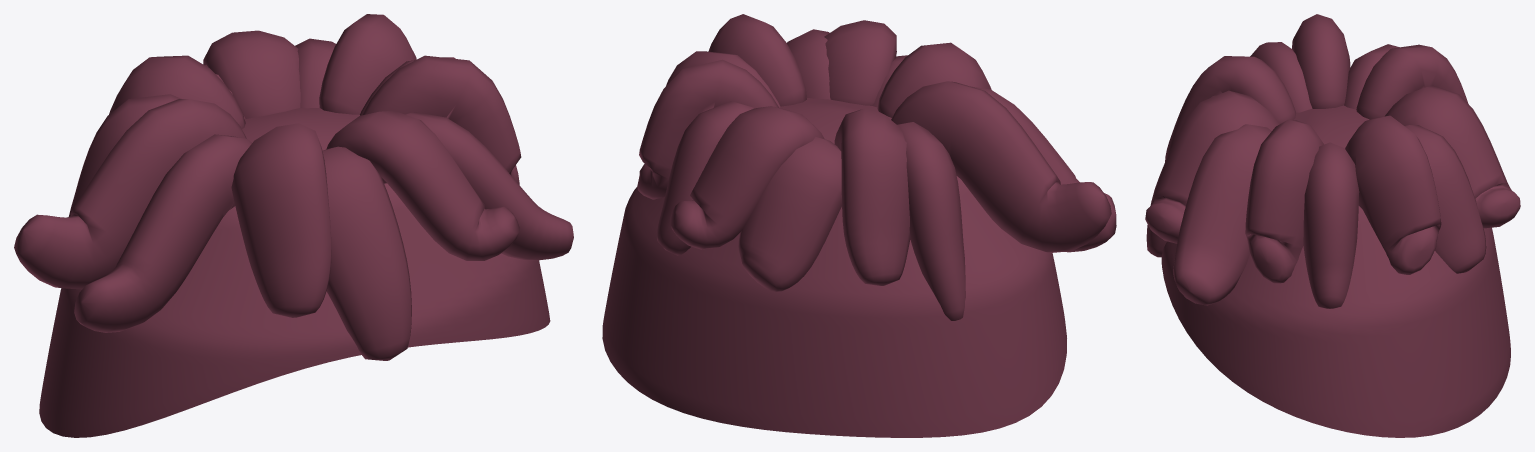
File: studio_pixie_default.glb
The picture shows the model from 3 angles, left to right: view 1: azimuth 30°, elevation 25°; view 2: azimuth 150°, elevation 25°; view 3: azimuth 270°, elevation 25°; orthographic projection. The views are drawn at different scales.
Parts seen in each view (by area): view 1: pixie; view 2: pixie; view 3: pixie.
Part boxes in pixels (<box>): pixie: <box>14,14,573,437</box>; pixie: <box>602,14,1116,437</box>; pixie: <box>1145,14,1520,437</box>.
Bounding box in the file's own units: 0.5325 × 0.3235 × 0.3843.
